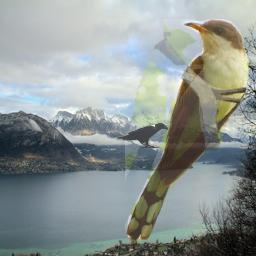Crow: (116, 122, 168, 148)
Cuckoo: (125, 19, 249, 245)
